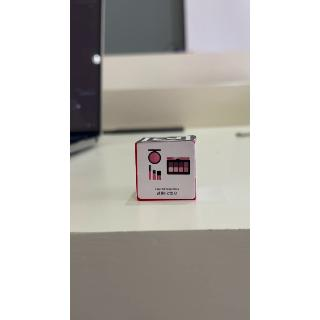Expired_Cosmetic: (136, 143, 198, 202)
